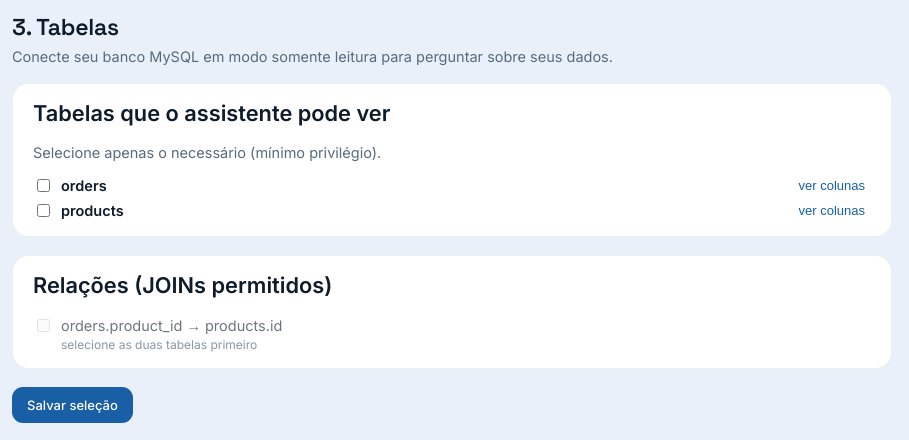
Test: exposure picker — both-endpoints client guard › disables a relationship until both its tables are selected
Expected: the checkbox labelled "orders.product_id → products.id" is disabled, 37,319 -> 50,332
What coordinates should you click on to do the following:
click the checkbox labelled "orders"
I would click on:
 (44, 185)
Its box is 37,178 -> 50,192.
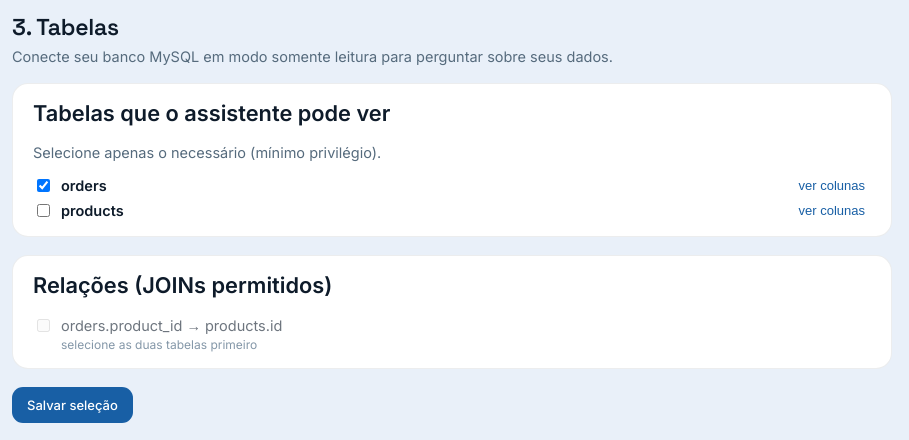
What coordinates should you click on to do the following:
click the checkbox labelled "products"
I would click on:
 (44, 210)
Its box is 37,204 -> 50,216.
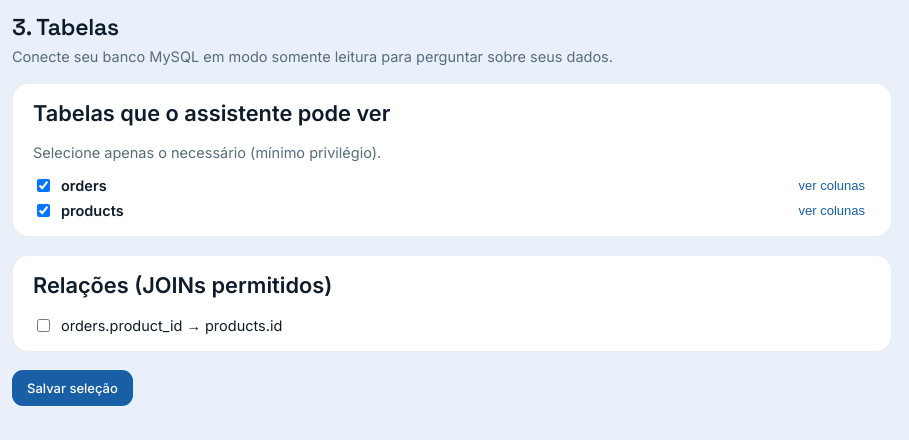
Expected: the checkbox labelled "orders.product_id → products.id" is enabled, 37,319 -> 50,332
